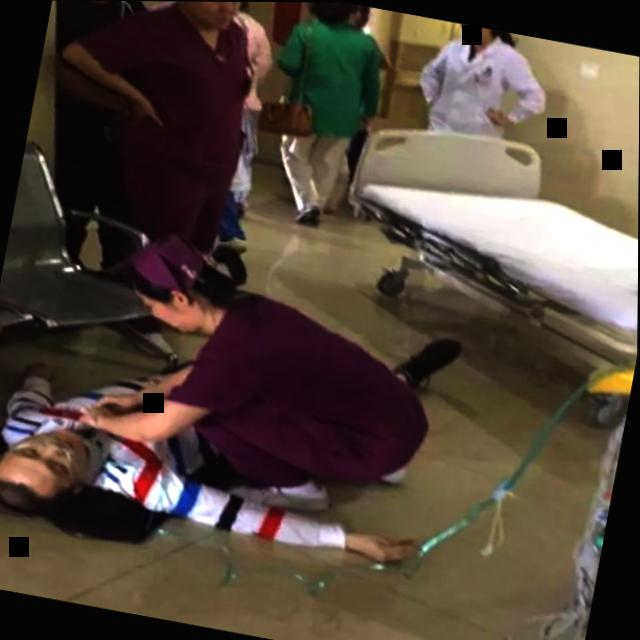Fall-Detected: (0, 298, 488, 602)
